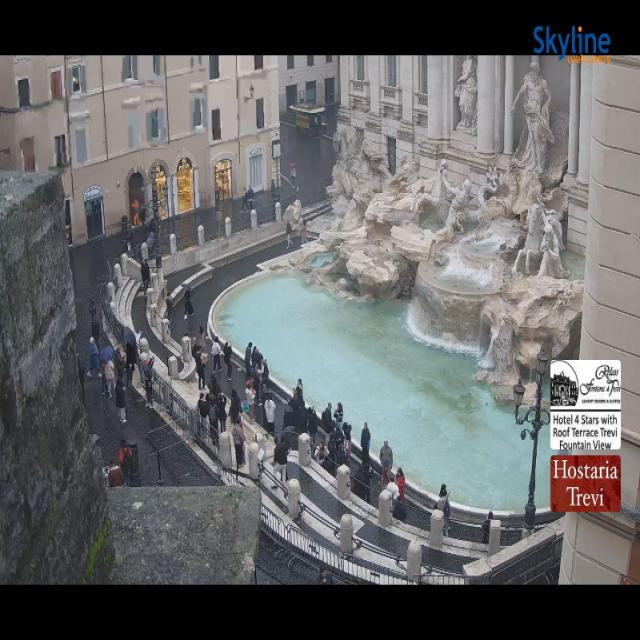person: (274, 437, 290, 484), (356, 465, 374, 503), (232, 418, 245, 468), (438, 484, 450, 536), (120, 439, 133, 485), (380, 439, 392, 488), (192, 345, 205, 389), (143, 357, 154, 408), (126, 343, 138, 387), (87, 337, 99, 377), (108, 460, 125, 488), (324, 438, 336, 476), (288, 392, 300, 430), (116, 378, 126, 423), (104, 359, 115, 398), (208, 396, 218, 438), (229, 389, 241, 423), (264, 395, 275, 432), (254, 358, 263, 403), (90, 297, 99, 342), (222, 341, 232, 381), (482, 511, 494, 544), (245, 380, 255, 419), (77, 355, 85, 403), (361, 423, 370, 465), (307, 408, 317, 445), (208, 372, 222, 398), (392, 496, 406, 522), (218, 392, 227, 432), (115, 346, 126, 378), (322, 402, 332, 436), (212, 336, 221, 371), (184, 288, 194, 319), (298, 400, 307, 434), (317, 565, 333, 584), (315, 440, 327, 465), (396, 469, 405, 502), (336, 440, 347, 467), (141, 259, 150, 291), (198, 392, 209, 418), (99, 362, 107, 395), (334, 403, 343, 432), (124, 226, 134, 252), (344, 426, 351, 463), (262, 359, 270, 390), (245, 342, 252, 377), (252, 368, 259, 403), (198, 326, 207, 351), (166, 295, 173, 327), (286, 220, 293, 248), (90, 297, 97, 323), (296, 378, 303, 402), (248, 185, 254, 211), (252, 345, 259, 367), (343, 423, 351, 441), (241, 188, 247, 211), (301, 222, 307, 244), (291, 165, 296, 187), (272, 179, 275, 202)
